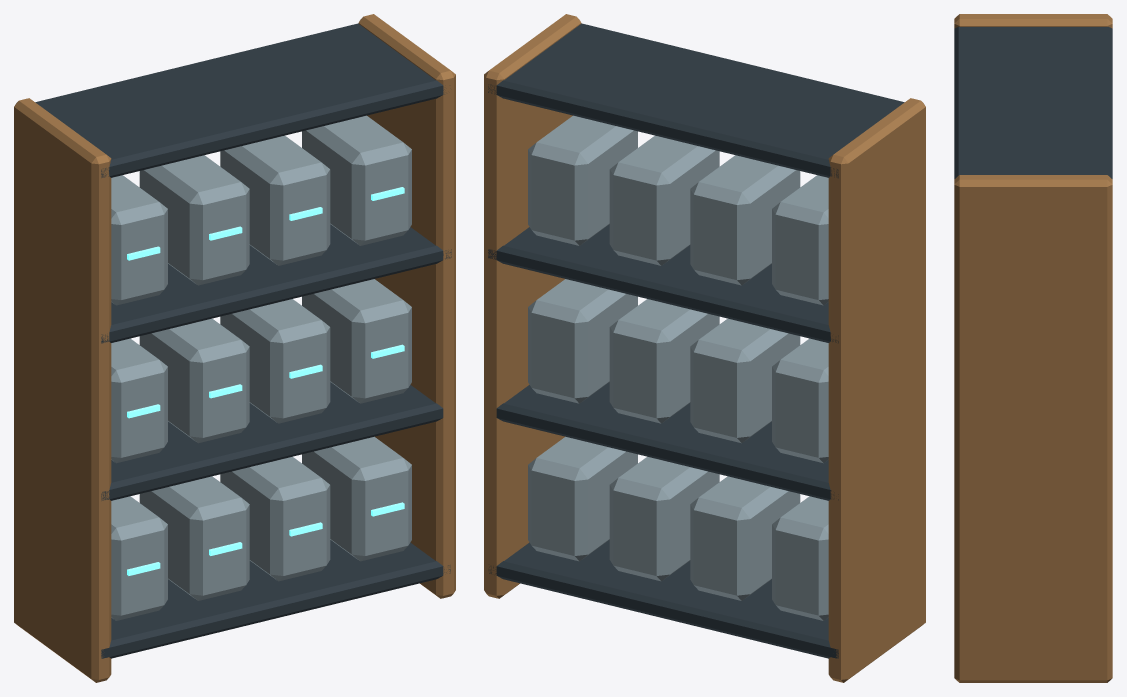
File: archive-shelf.lod0.glb
The picture shows the model from 3 angles, left to right: view 1: azimuth 30°, elevation 25°; view 2: azimuth 150°, elevation 25°; view 3: azimuth 270°, elevation 25°; orthographic projection. The views are drawn at different scales.
Visible parts, largest first — view 1: structure; view 2: structure; view 3: structure.
Boxes of the visible parts, box(x1,y1,x2,y2) form: structure: box(14, 14, 455, 682); structure: box(484, 14, 925, 682); structure: box(954, 14, 1112, 682).
Size of the model in its own units: 2.54 by 3.5 by 1.
